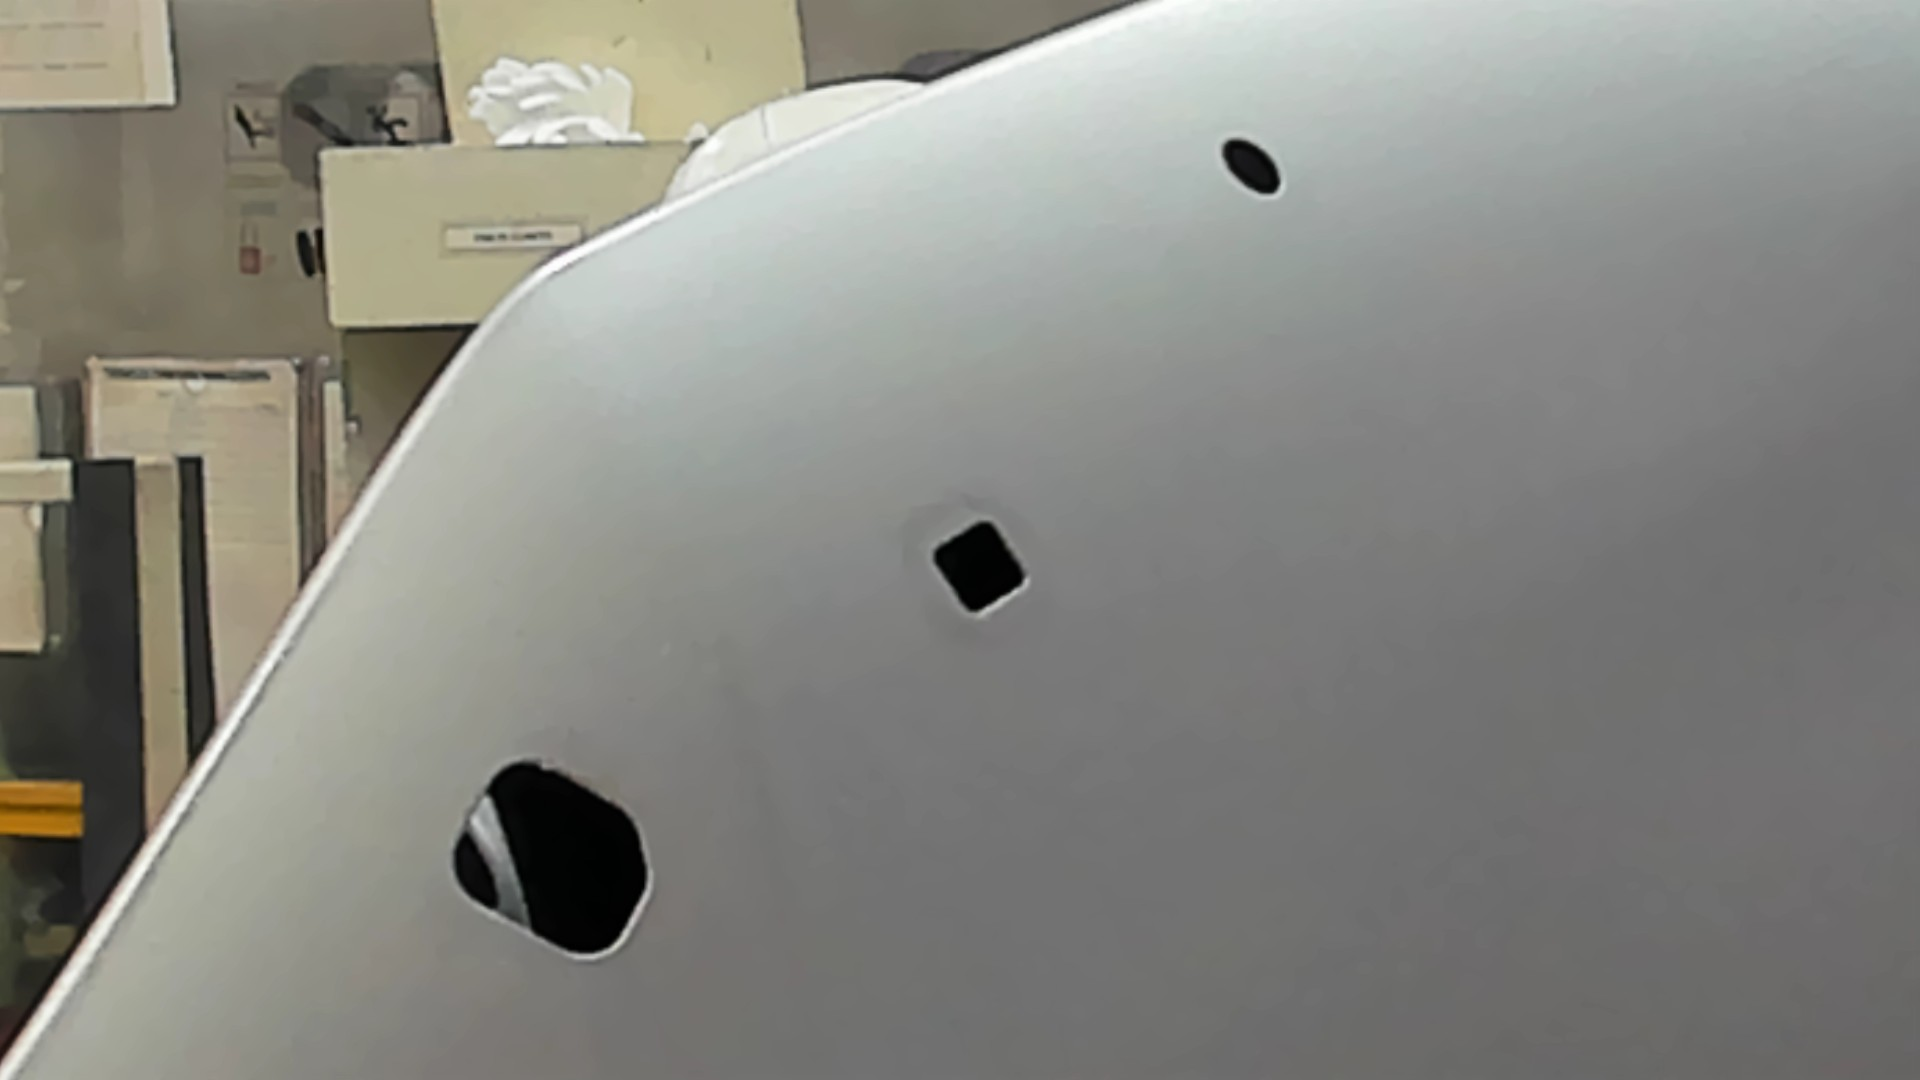Agujero: (931, 520, 1031, 617), (1218, 136, 1283, 196)
Agujerote: (451, 756, 654, 960)
